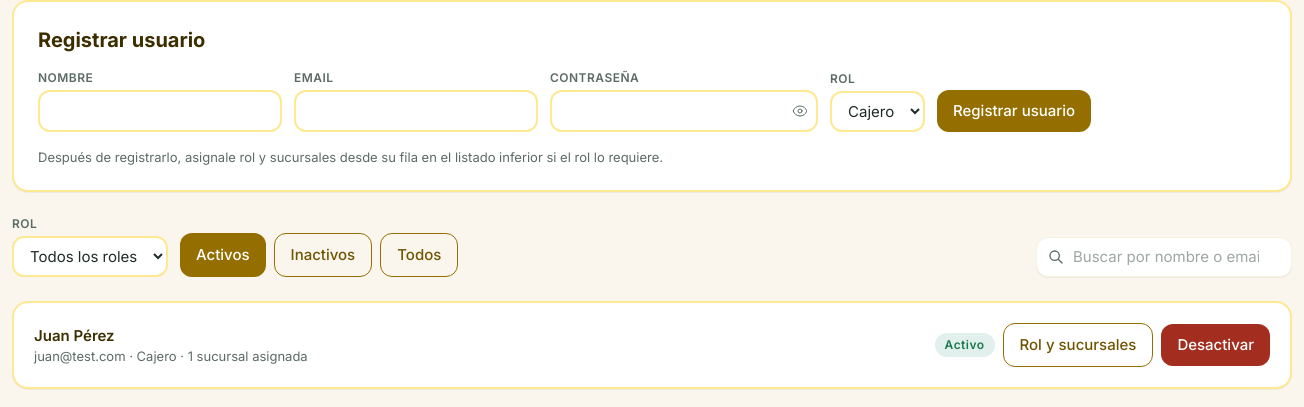
Test case: Usuarios › desactiva un usuario real y refleja el estado sin volver a pedir la lista completa
Click the button "Desactivar".
click(1216, 345)  # box x1=1161 y1=324 x2=1270 y2=366
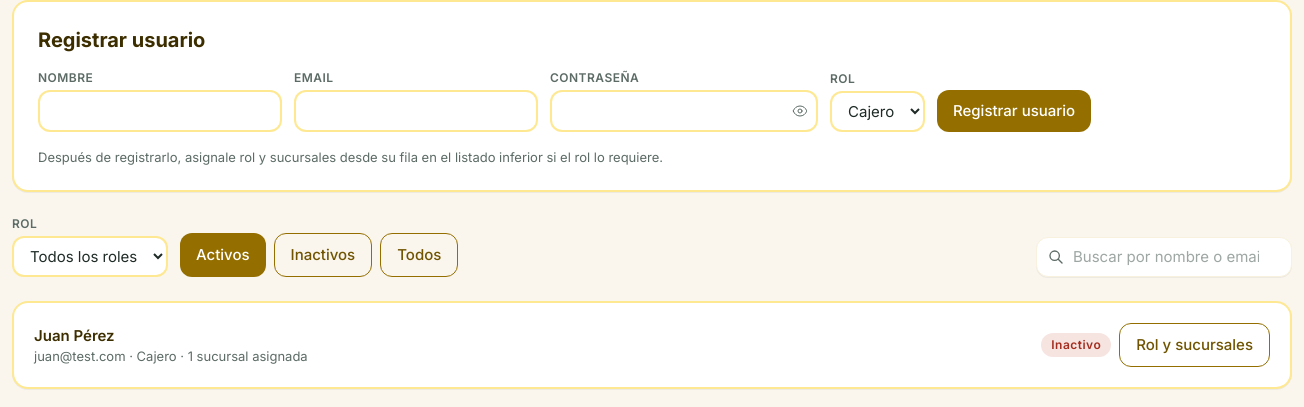
Expected: the text "Inactivo" is shown, x1=1041 y1=333 x2=1111 y2=357
